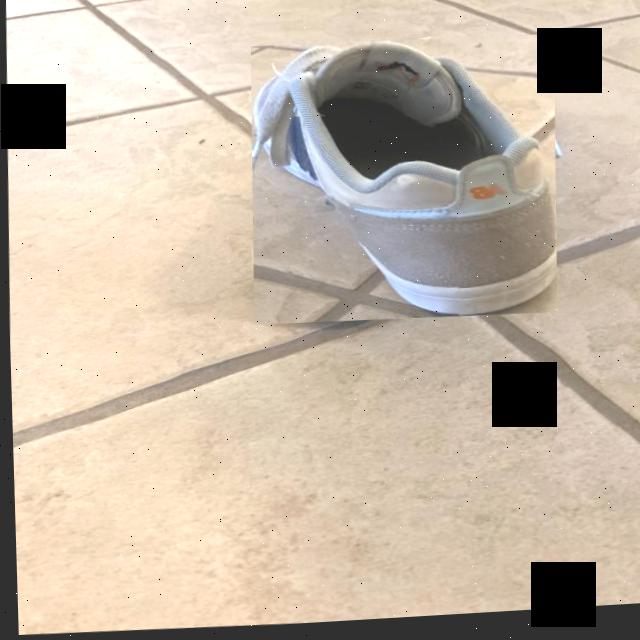shoe: (245, 35, 560, 333)
